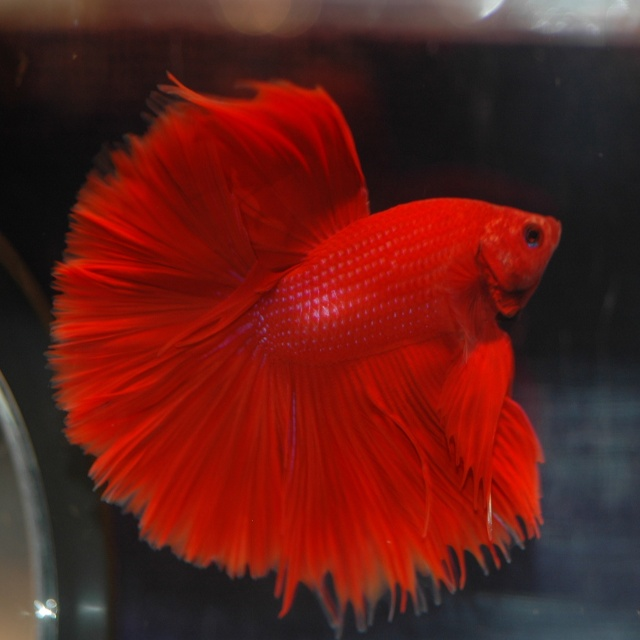Goldfish: (42, 164, 558, 583)
